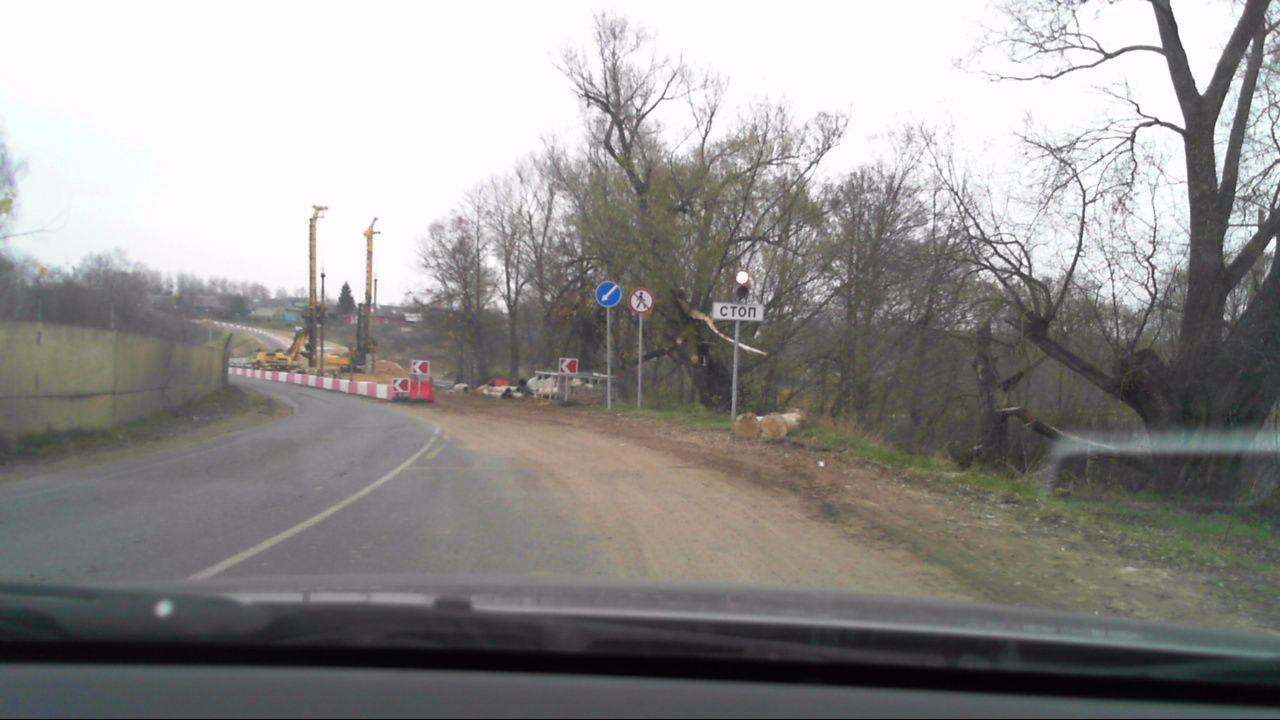1_34_2: (389, 375, 413, 394), (558, 356, 578, 376), (412, 356, 431, 374)
3_10: (627, 289, 652, 311)
4_2_2: (596, 278, 623, 311)
6_16: (714, 301, 766, 323)
